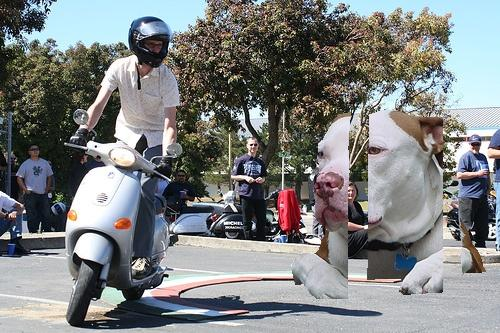tampered: (292, 111, 486, 299)
